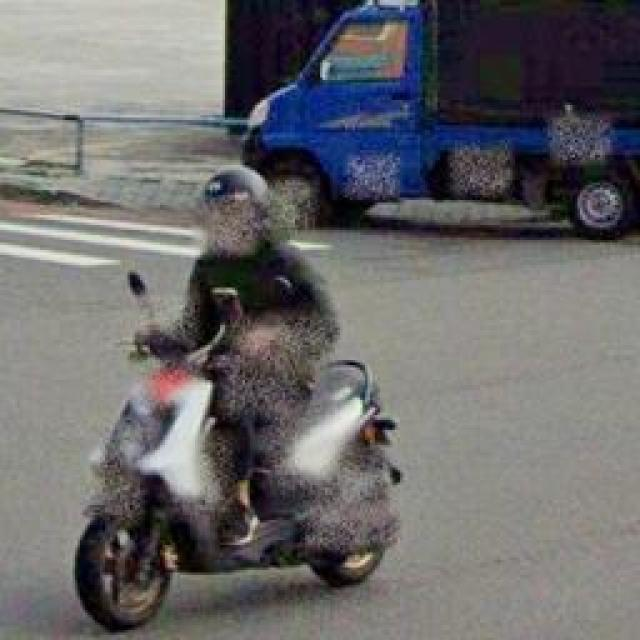motorbike: (68, 138, 411, 640)
truck: (251, 3, 625, 224)
